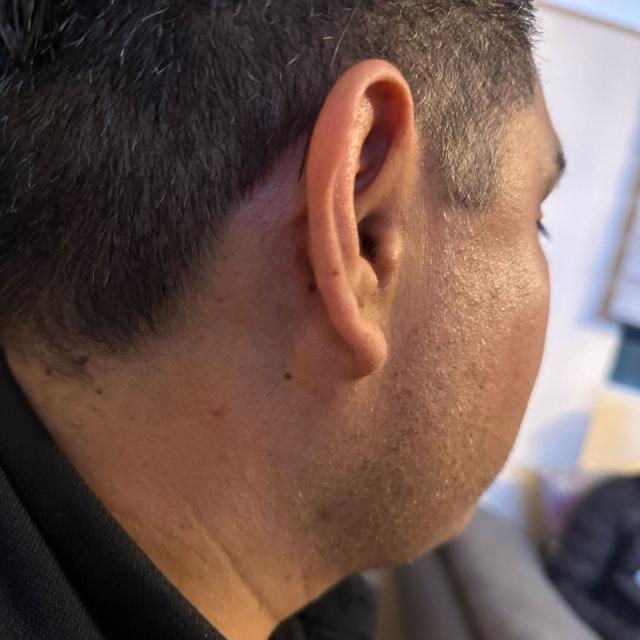ear: (305, 60, 418, 374)
